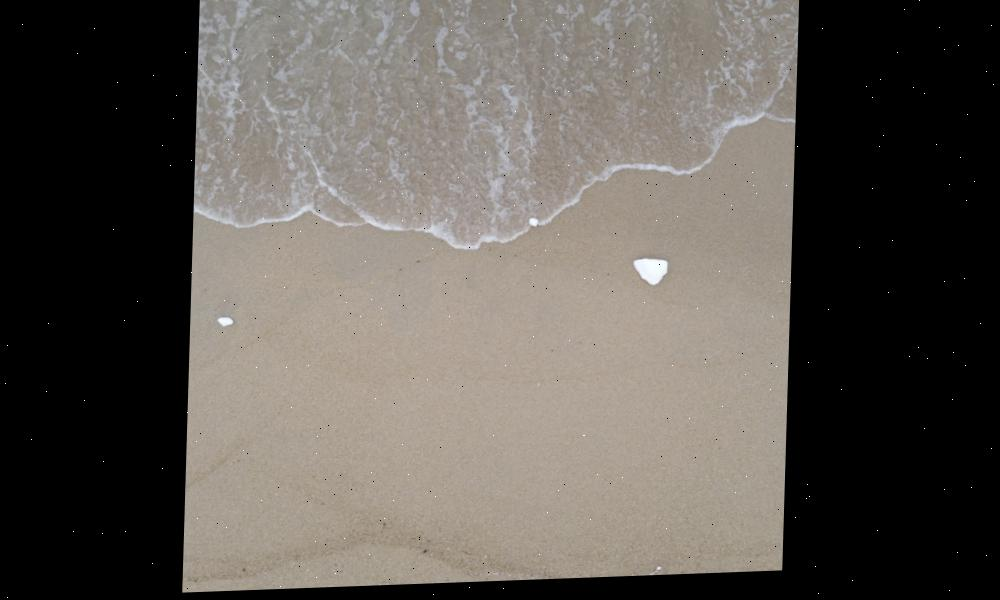styrofoam: (630, 260, 673, 289), (218, 316, 238, 329)
